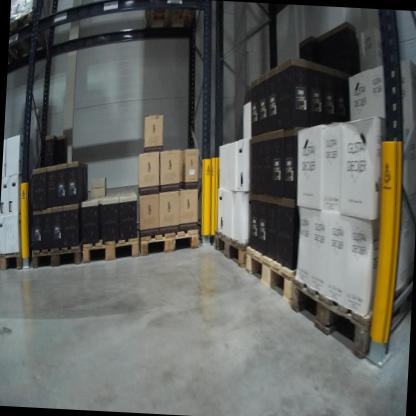pallet: (289, 267, 411, 357), (244, 239, 313, 310), (80, 218, 142, 266), (139, 212, 201, 260), (8, 3, 46, 69), (140, 0, 195, 39), (27, 233, 83, 271), (210, 222, 249, 271), (0, 246, 24, 275)
